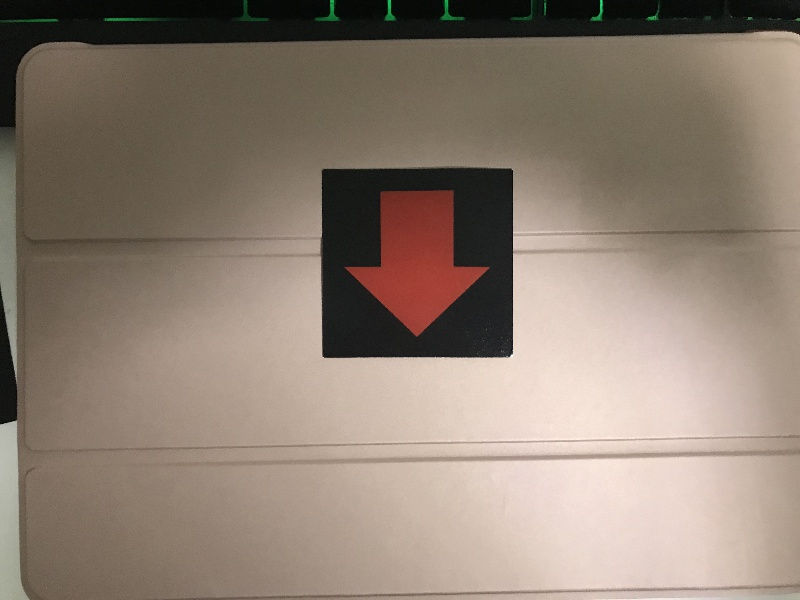DA-2: (324, 171, 512, 356)
